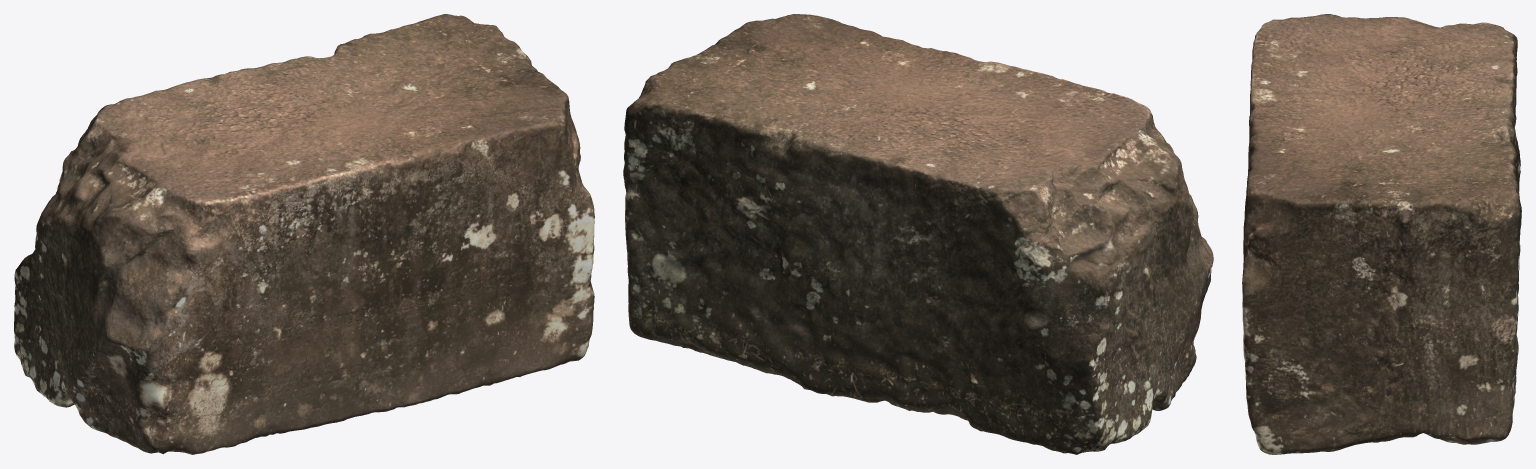
The model's file is 28_MysonSanctuaryD_biaki_final.glb.
3 views of the same model, side by side, from view 1: azimuth 30°, elevation 25°; view 2: azimuth 150°, elevation 25°; view 3: azimuth 270°, elevation 25° (orthographic).
Size of the model in its own units: 0.8709 by 0.4553 by 0.4439.
Materials: 1 (1 with a texture image).
